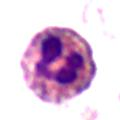eosi: (18, 24, 98, 101)
